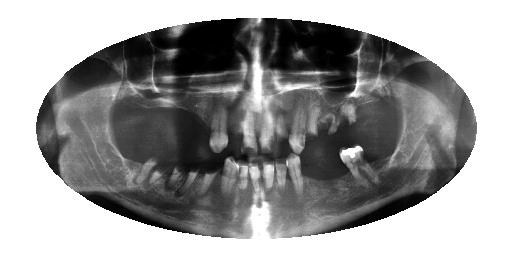Cavity: (199, 156, 222, 196), (137, 146, 162, 181), (240, 112, 258, 158), (168, 155, 189, 191), (150, 155, 173, 187), (184, 155, 203, 193), (222, 154, 240, 194), (274, 111, 290, 154), (260, 115, 276, 155), (307, 105, 317, 153), (262, 157, 276, 191), (250, 157, 263, 193), (238, 158, 251, 192)
Fillings: (339, 145, 379, 186)
